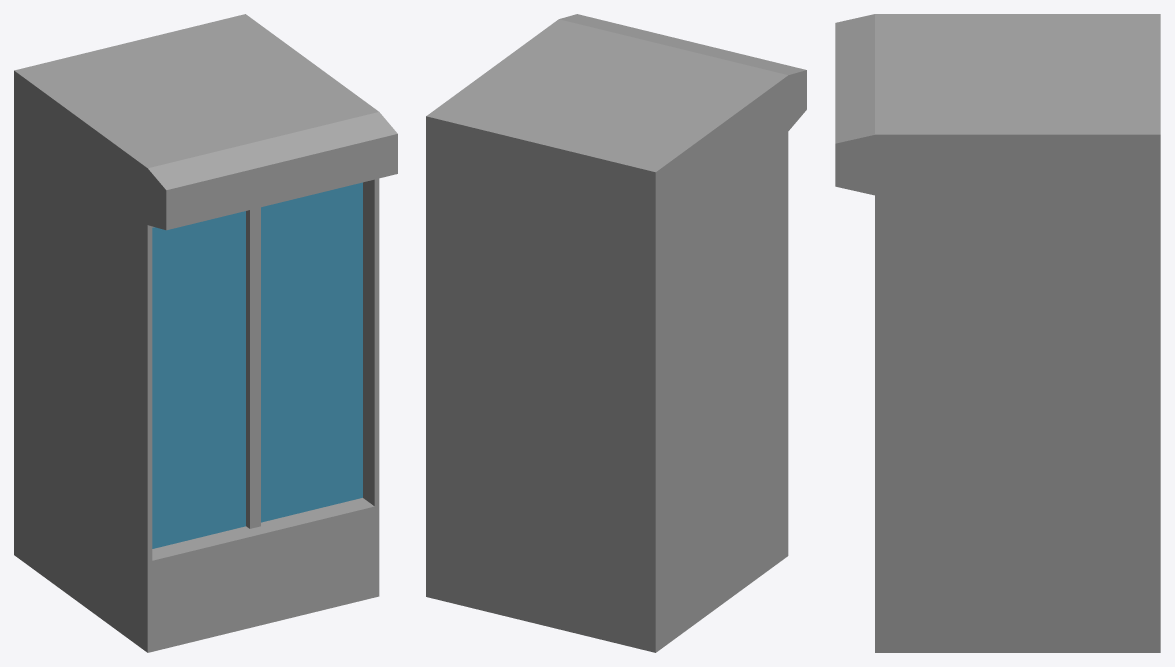
File: fridge.fbx
The picture shows the model from 3 angles, left to right: view 1: azimuth 30°, elevation 25°; view 2: azimuth 150°, elevation 25°; view 3: azimuth 270°, elevation 25°; orthographic projection. The views are drawn at different scales.
Parts seen in each view (by area): view 1: Fridge; view 2: Fridge; view 3: Fridge.
Part boxes in pixels (x1,y1,x2,y2): Fridge: (14,14,397,652); Fridge: (426,14,806,652); Fridge: (835,14,1160,652).
Size of the model in its own units: 1 by 2 by 1.14.
